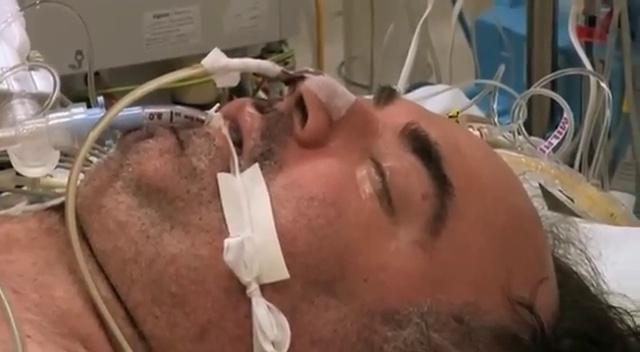patient: (0, 66, 639, 351)
